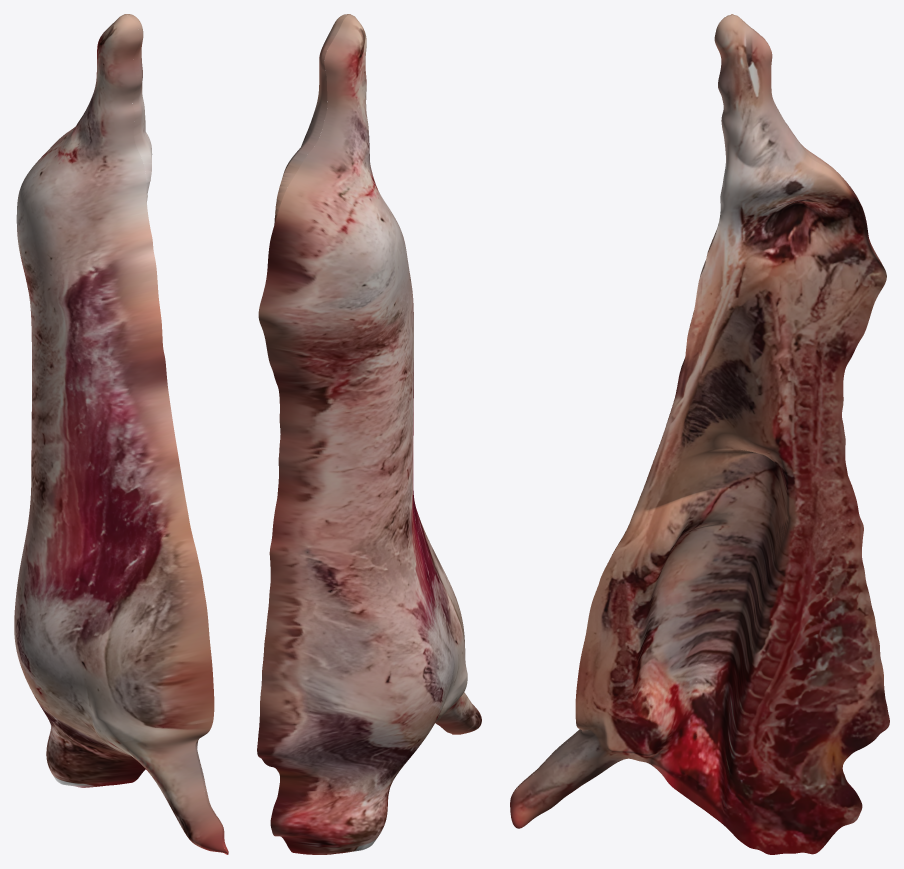
The model's file is demi_carcasse_boeuf_v29.glb.
3 renders of one model, left to right at view 1: azimuth 30°, elevation 25°; view 2: azimuth 150°, elevation 25°; view 3: azimuth 270°, elevation 25°, orthographic. The views are drawn at different scales.
Parts seen in each view (by area): view 1: face_exterieure, face_de_fente; view 2: face_exterieure, face_de_fente; view 3: face_de_fente, face_exterieure.
Part boxes in pixels (x1,y1,x2,y2): face_exterieure: [14, 14, 228, 854]; face_de_fente: [126, 14, 228, 853]; face_exterieure: [257, 14, 481, 854]; face_de_fente: [274, 14, 452, 734]; face_de_fente: [510, 15, 889, 854]; face_exterieure: [513, 14, 882, 792].
Size of the model in its own units: 0.4392 by 2.5 by 1.03.
2 materials, 2 textured.
